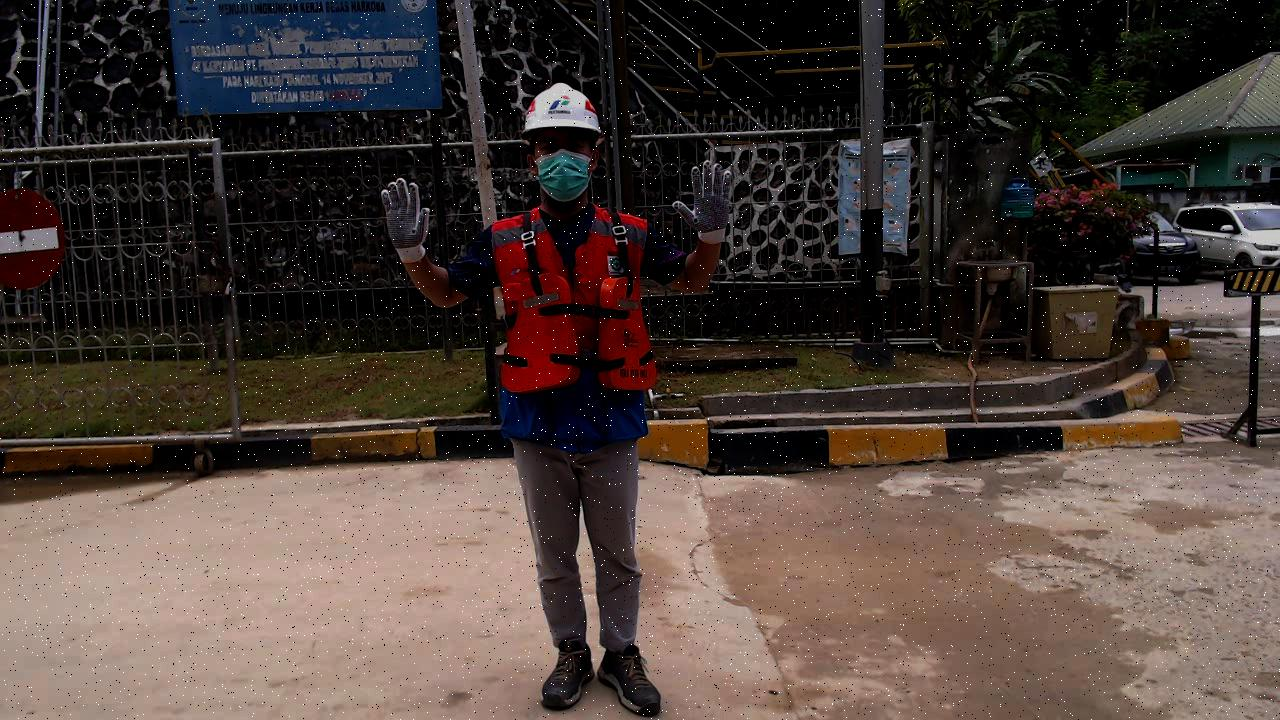gloves: (670, 159, 736, 247), (375, 177, 436, 268)
helmet: (520, 80, 604, 136)
mask: (534, 150, 594, 203)
safety-shoes: (597, 642, 665, 717), (538, 638, 596, 713)
vest: (494, 269, 664, 396)
